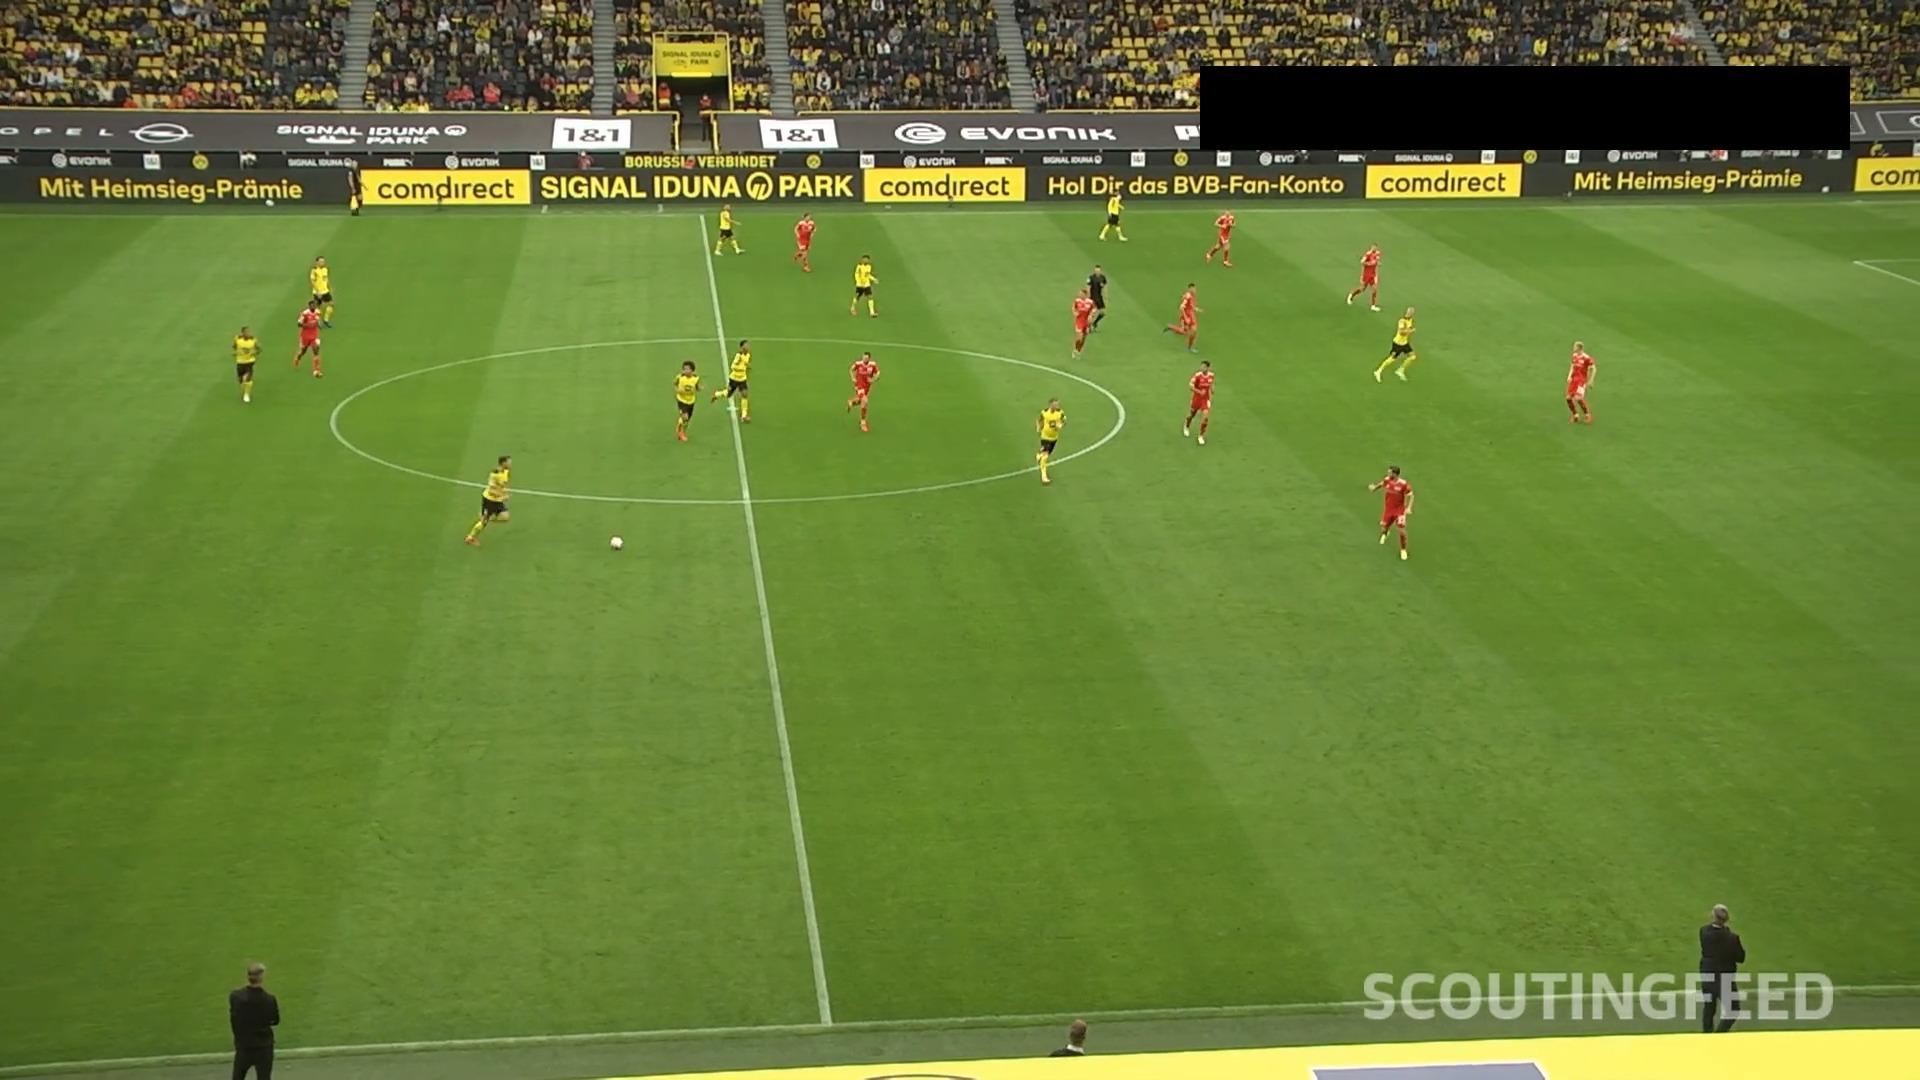ball: (608, 534, 625, 553)
